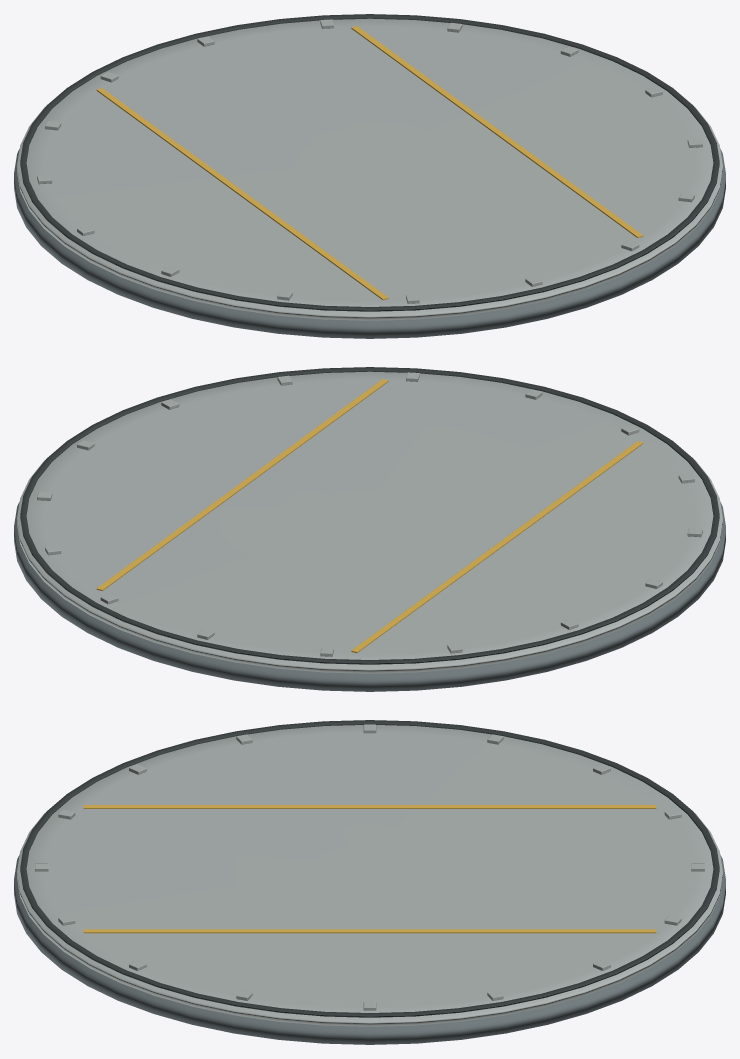
Rendered from automated-parking-and-vehicle-retrieval-automated-park-e5b344a7__30344.glb.
3 renders of one model, top to bottom at view 1: azimuth 30°, elevation 25°; view 2: azimuth 150°, elevation 25°; view 3: azimuth 270°, elevation 25°, orthographic.
Parts seen in each view (by area): view 1: automated-parking-and-vehicle-retrieval-vehicle-turntable; view 2: automated-parking-and-vehicle-retrieval-vehicle-turntable; view 3: automated-parking-and-vehicle-retrieval-vehicle-turntable.
Boxes of the visible parts, <box> form: automated-parking-and-vehicle-retrieval-vehicle-turntable: <box>14,14,725,338</box>; automated-parking-and-vehicle-retrieval-vehicle-turntable: <box>14,367,725,691</box>; automated-parking-and-vehicle-retrieval-vehicle-turntable: <box>14,720,725,1044</box>.
Size of the model in its own units: 4.6 by 0.2102 by 4.6.
